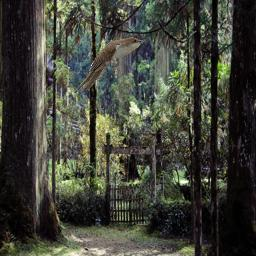Cuckoo: (74, 37, 148, 93)
